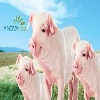heo: (24, 10, 60, 61), (68, 37, 95, 79), (11, 53, 37, 91)
